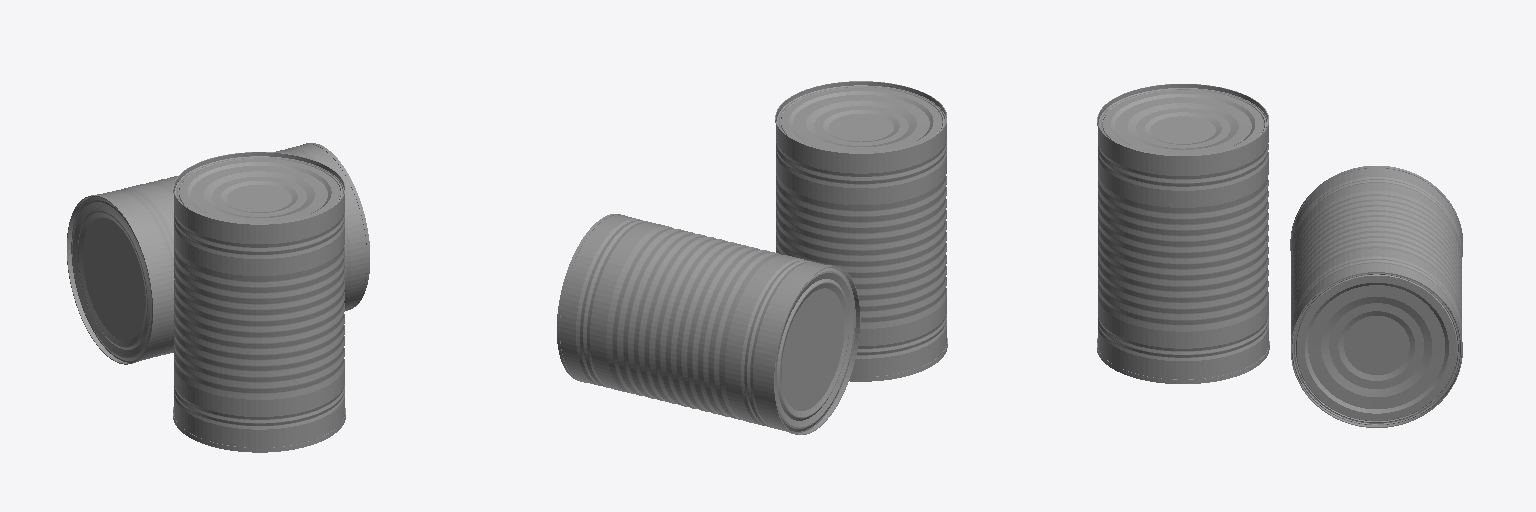
File: latas.obj
3 renders of one model, left to right at view 1: azimuth 30°, elevation 25°; view 2: azimuth 150°, elevation 25°; view 3: azimuth 270°, elevation 25°, orthographic.
Visible parts, largest first — view 1: Can.001_Circle.001, Can.002_Circle.002; view 2: Can.002_Circle.002, Can.001_Circle.001; view 3: Can.001_Circle.001, Can.002_Circle.002.
Part boxes in pixels (x1,y1,x2,y2): Can.001_Circle.001: (173,152,345,452); Can.002_Circle.002: (67,143,369,364); Can.002_Circle.002: (557,214,860,434); Can.001_Circle.001: (775,81,947,381); Can.001_Circle.001: (1097,84,1269,383); Can.002_Circle.002: (1290,166,1462,427).
Size of the model in its own units: 0.0865 by 0.0786 by 0.1146.